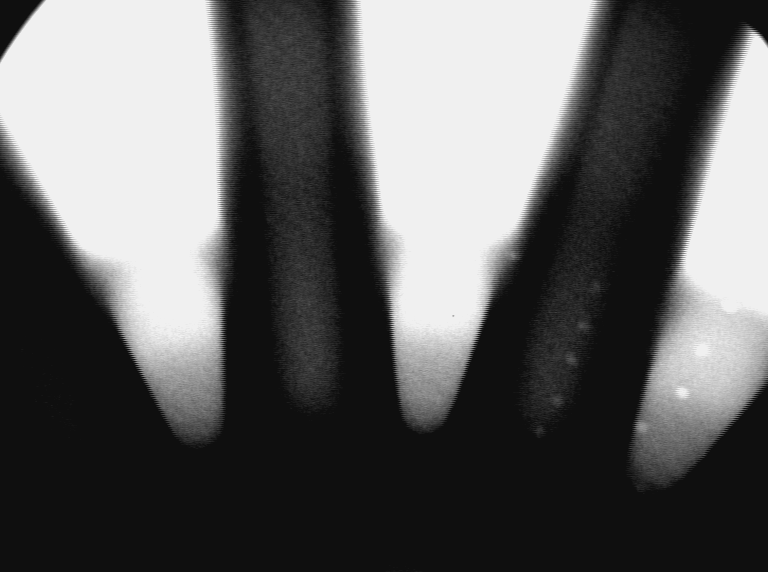defect: (505, 246, 524, 268)
